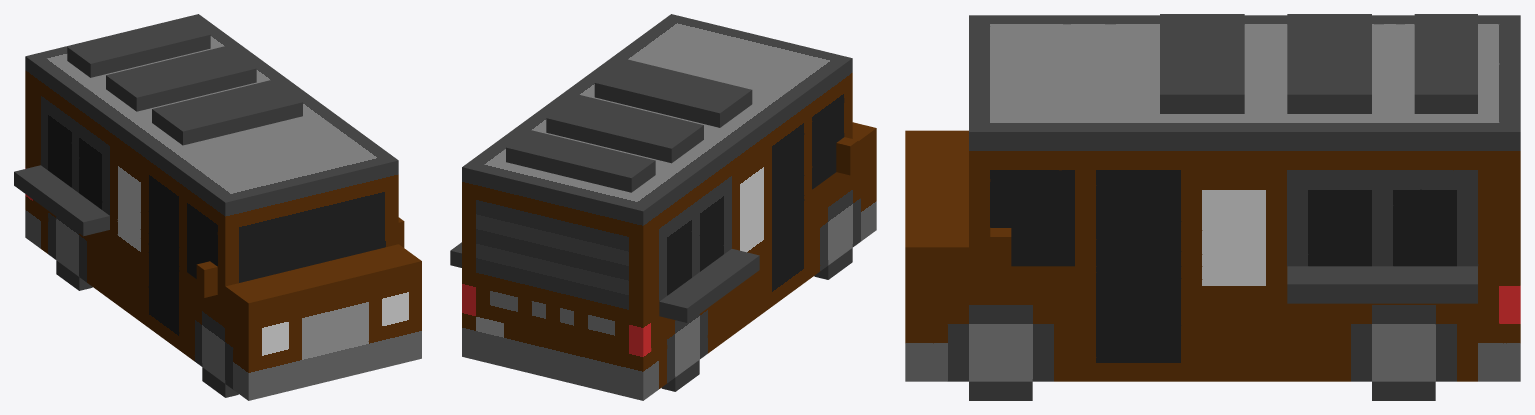
Rendered from veh_lunch4.dae.
3 views of the same model, side by side, from view 1: azimuth 30°, elevation 25°; view 2: azimuth 150°, elevation 25°; view 3: azimuth 270°, elevation 25° (orthographic). The views are drawn at different scales.
Visible parts, largest first — view 1: veh_lunch4; view 2: veh_lunch4; view 3: veh_lunch4.
Boxes of the visible parts, x1,y1,x2,y2 form: veh_lunch4: (14, 14, 421, 400); veh_lunch4: (450, 14, 876, 400); veh_lunch4: (905, 14, 1520, 400).
Bounding box in the file's own units: 1.7 × 2.9 × 1.5.
Materials: 1 (1 with a texture image).
